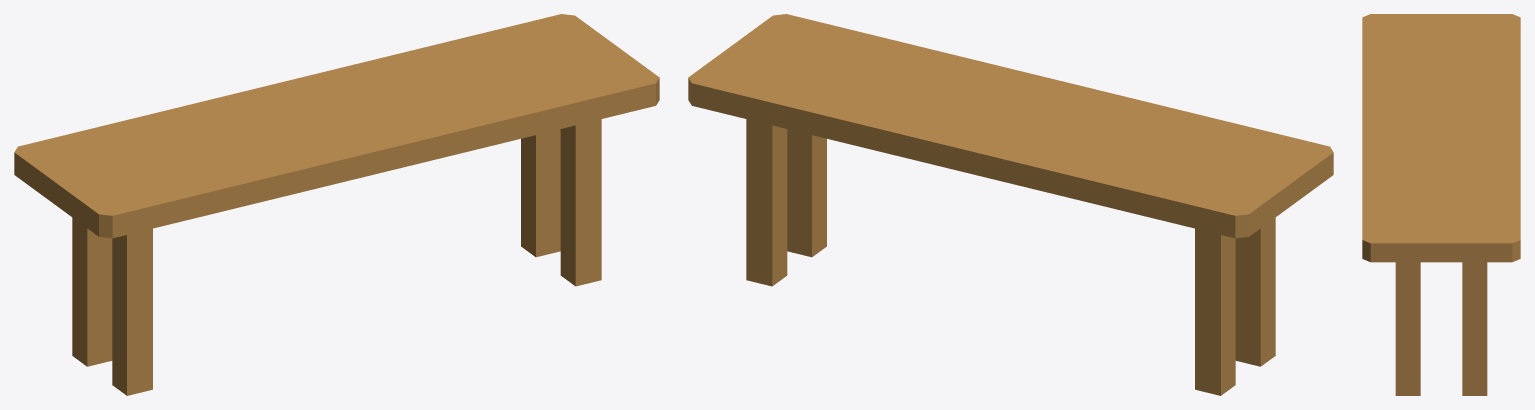
The model's file is SM_LPI_Seat_Bench_01.fbx.
3 views of the same model, side by side, from view 1: azimuth 30°, elevation 25°; view 2: azimuth 150°, elevation 25°; view 3: azimuth 270°, elevation 25° (orthographic). The views are drawn at different scales.
Visible parts, largest first — view 1: SM_LPI_Seat_Bench_01; view 2: SM_LPI_Seat_Bench_01; view 3: SM_LPI_Seat_Bench_01.
Part boxes in pixels (x1=…): SM_LPI_Seat_Bench_01: x1=14, y1=14, x2=659, y2=395; SM_LPI_Seat_Bench_01: x1=688, y1=14, x2=1333, y2=395; SM_LPI_Seat_Bench_01: x1=1362, y1=14, x2=1520, y2=395.
Bounding box in the file's own units: 1.3 × 0.45 × 0.38.
